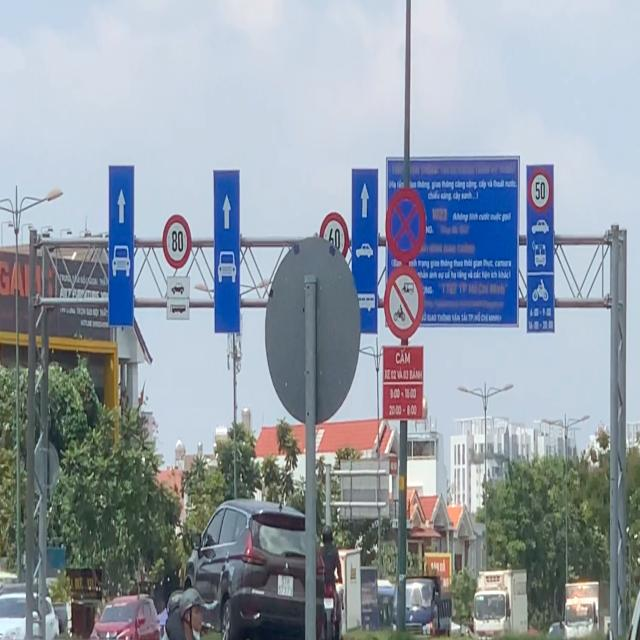Cam dung va do: (384, 186, 426, 264)
Toc do toi da: (162, 212, 192, 268)
